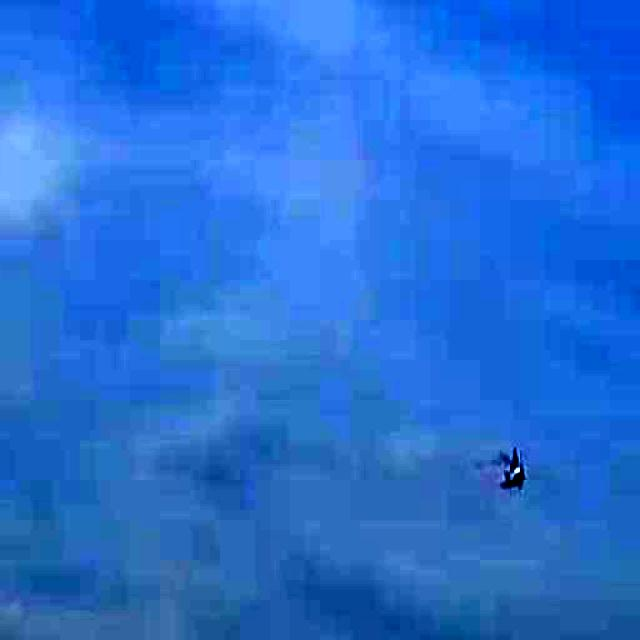drone: (471, 434, 555, 504)
